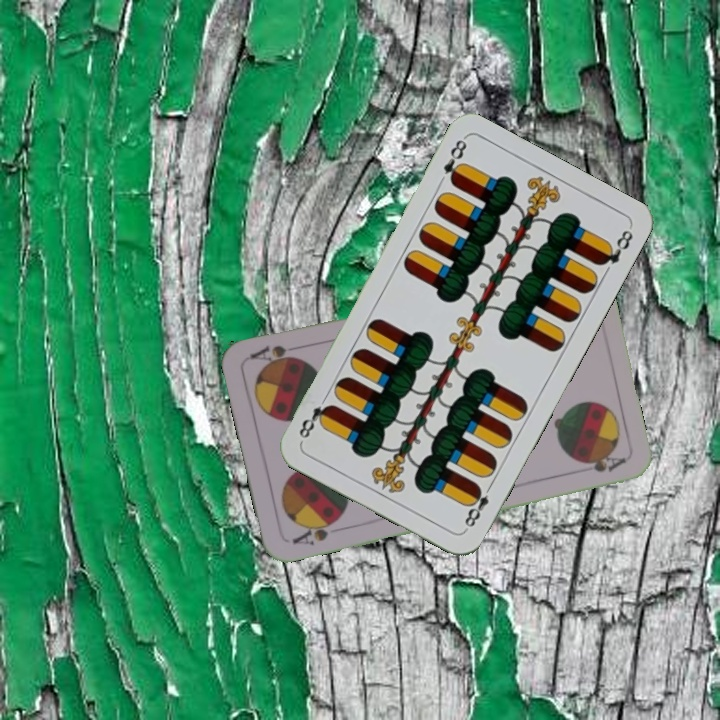E8: (460, 479, 496, 533), (439, 135, 470, 187)
SA: (288, 515, 342, 549)
